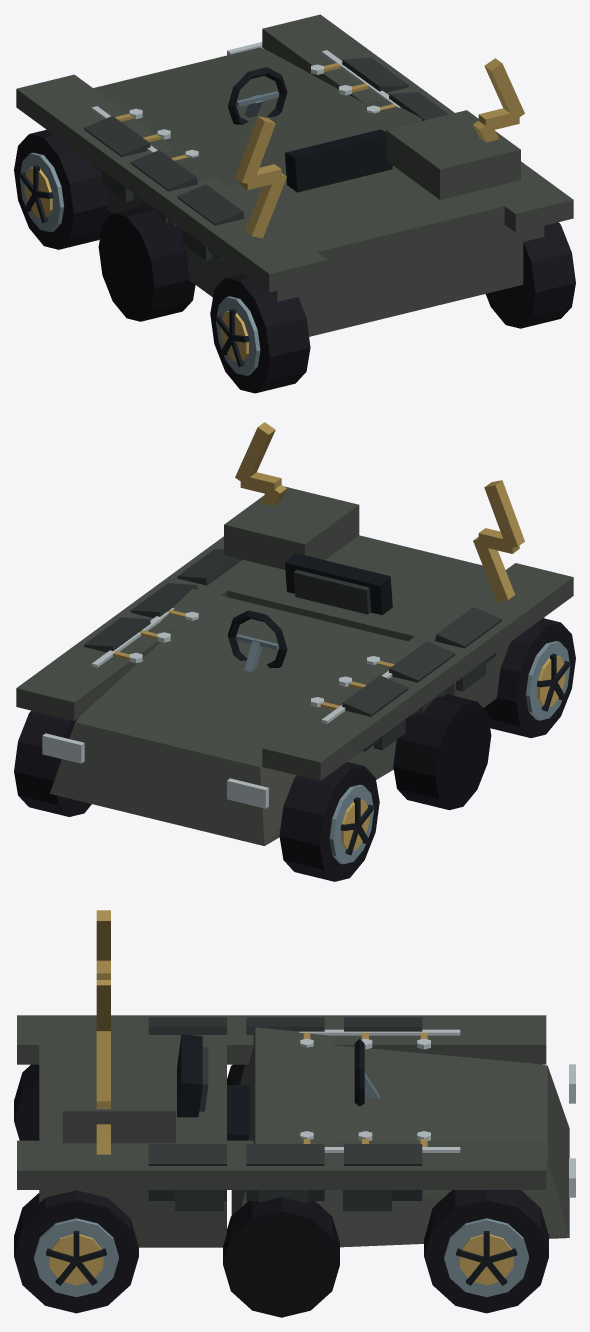
File: kart.glb
3 views of the same model, one above another, from view 1: azimuth 30°, elevation 25°; view 2: azimuth 150°, elevation 25°; view 3: azimuth 270°, elevation 25° (orthographic). The views are drawn at different scales.
Visible parts, largest first — view 1: identity-apc-apc-armored-hull, wheel-rear-left, wheel-front-left, identity-apc-motif-armor, identity-apc-driver-cockpit, wheel-rear-right, identity-apc-motif-electric, identity-apc-motif-circuit; view 2: identity-apc-apc-armored-hull, wheel-front-left, identity-apc-motif-armor, wheel-rear-left, identity-apc-driver-cockpit, identity-apc-motif-electric, wheel-front-right, identity-apc-motif-circuit; view 3: identity-apc-apc-armored-hull, wheel-front-right, wheel-rear-right, identity-apc-motif-armor, identity-apc-driver-cockpit, identity-apc-motif-electric, identity-apc-motif-circuit, wheel-rear-left.
Part boxes in pixels (<box>): identity-apc-apc-armored-hull: <box>16,14,573,336</box>; wheel-rear-left: <box>210,273,310,393</box>; wheel-front-left: <box>14,129,111,249</box>; identity-apc-motif-armor: <box>84,57,448,260</box>; identity-apc-driver-cockpit: <box>227,67,392,192</box>; wheel-rear-right: <box>485,222,575,328</box>; identity-apc-motif-electric: <box>235,58,524,238</box>; identity-apc-motif-circuit: <box>91,50,400,160</box>; identity-apc-apc-armored-hull: <box>16,486,573,845</box>; wheel-front-left: <box>279,762,379,881</box>; identity-apc-motif-armor: <box>84,549,502,751</box>; wheel-rear-left: <box>483,618,575,738</box>; identity-apc-driver-cockpit: <box>227,553,392,671</box>; identity-apc-motif-electric: <box>235,422,524,602</box>; wheel-front-right: <box>14,710,91,816</box>; identity-apc-motif-circuit: <box>91,608,394,723</box>; identity-apc-apc-armored-hull: <box>17,1015,575,1317</box>; wheel-front-right: <box>424,1190,548,1313</box>; wheel-rear-right: <box>14,1190,138,1313</box>; identity-apc-motif-armor: <box>148,1017,422,1200</box>; identity-apc-driver-cockpit: <box>177,1034,379,1140</box>; identity-apc-motif-electric: <box>96,910,110,1154</box>; identity-apc-motif-circuit: <box>299,1029,460,1152</box>; wheel-rear-left: <box>14,1064,39,1140</box>.
Size of the model in its own units: 2.08 by 1.49 by 2.88.
